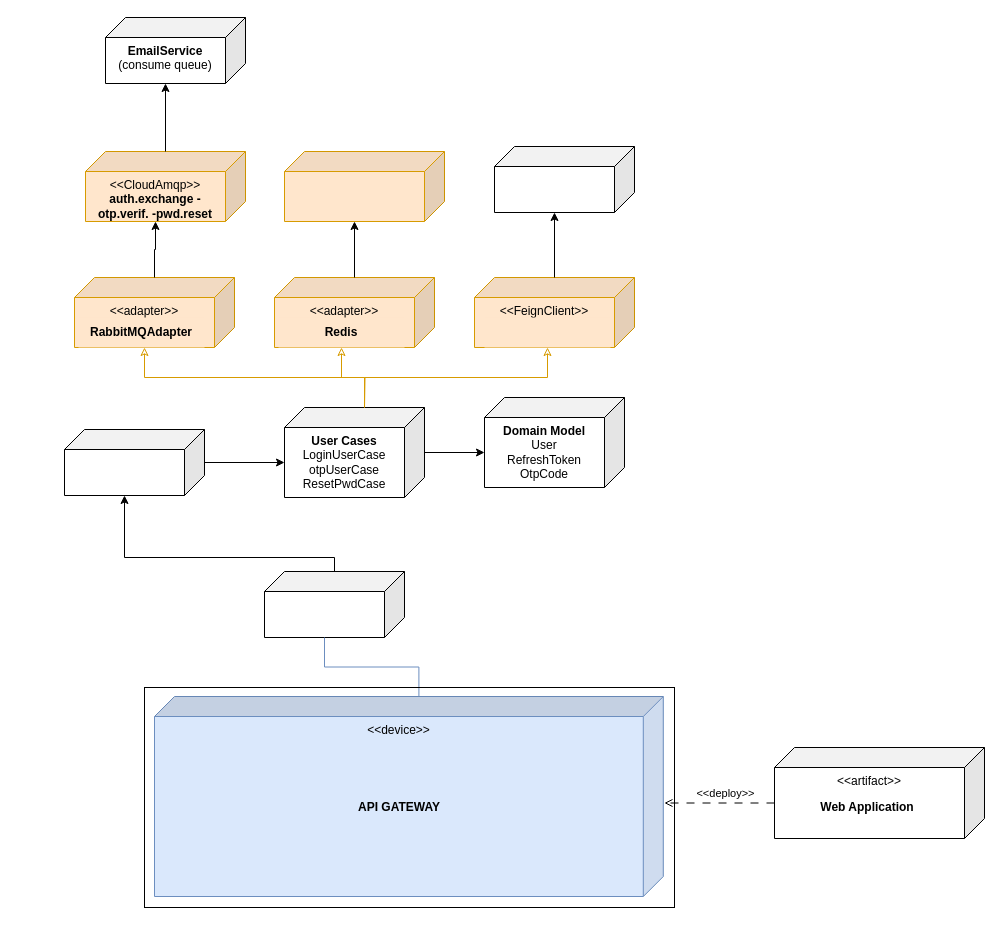
Some shapes in this 1002 by 925 pixel diagram are drawn without their labels. The box of each missing label's shape, as (x1, y1, x2, y2) in pixels:
<<lambda>> Profile Service: (264, 570, 404, 638)
<<Upstash>> Otp-Tokens - Lockout: (284, 150, 444, 222)
AuthController /api/v1/auth: (64, 428, 204, 496)
PorfielService /internal/users/**: (494, 146, 634, 212)
UserService: (484, 317, 610, 347)
